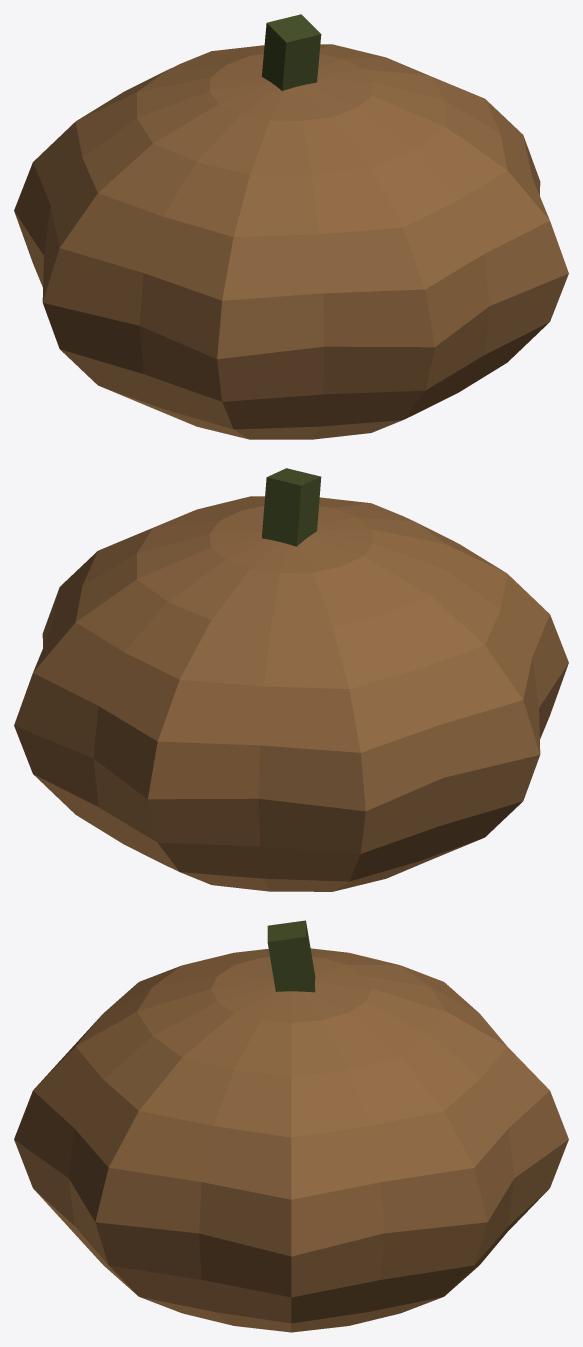
Rendered from pumpkin_prize_sad.glb.
The picture shows the model from 3 angles, top to bottom: view 1: azimuth 30°, elevation 25°; view 2: azimuth 150°, elevation 25°; view 3: azimuth 270°, elevation 25°; orthographic projection. The views are drawn at different scales.
Parts seen in each view (by area): view 1: Pumpkin; view 2: Pumpkin; view 3: Pumpkin.
Part boxes in pixels (<box>): Pumpkin: <box>14,14,568,439</box>; Pumpkin: <box>14,468,568,891</box>; Pumpkin: <box>14,920,568,1332</box>.
Bounding box in the file's own units: 0.7 × 0.5132 × 0.7.
